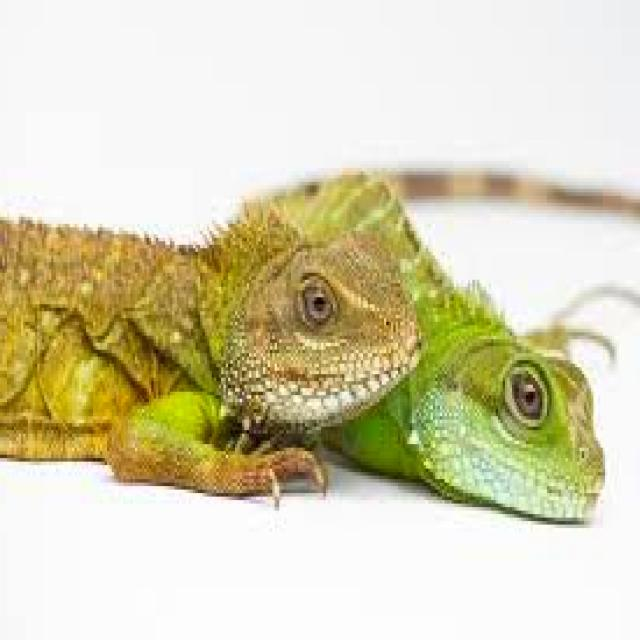lizard: (270, 168, 640, 518), (2, 206, 421, 493)
